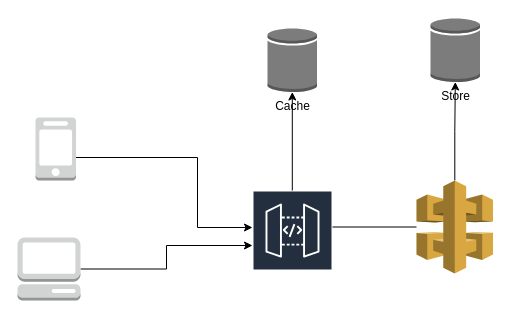
Image size: 511x318. Some labels were removed from this diagram. The shapes that lost their labels are listed below. From the top down, each one's centre as x and y in pixels, then its label:
the point at 292,245: Amazon API Gateway
the point at 454,227: REST API
